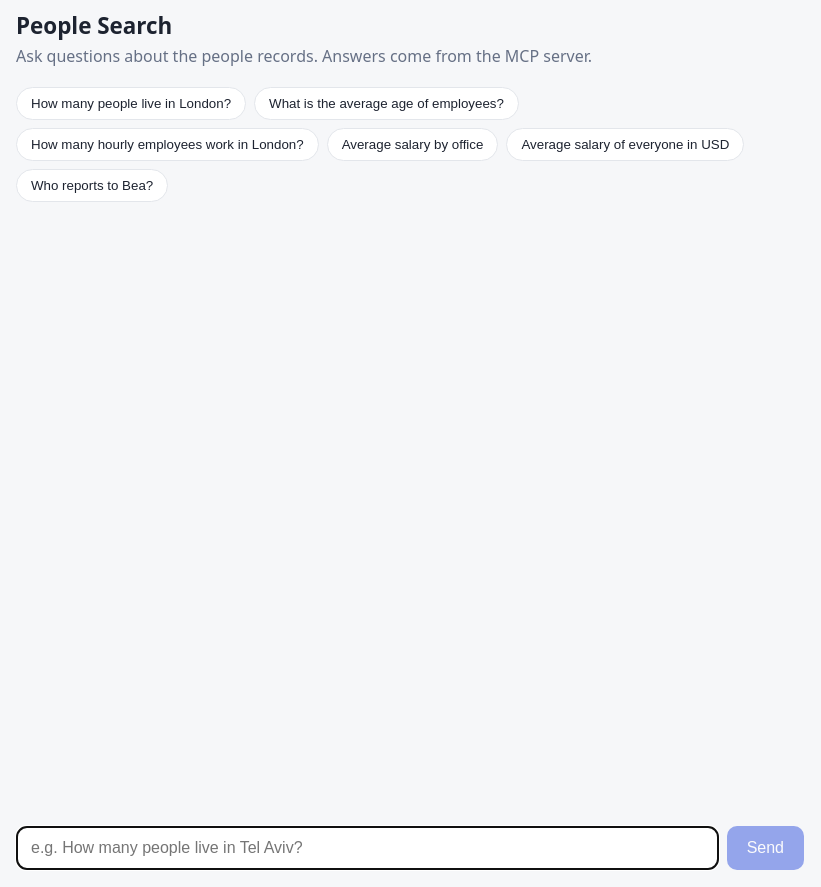
Test case: People Search chat › treats a stream that stops without "done" as interrupted, not as a finished answer
Type "London?" into the field at (367, 848), box [16,826,719,870]
Then press Enter
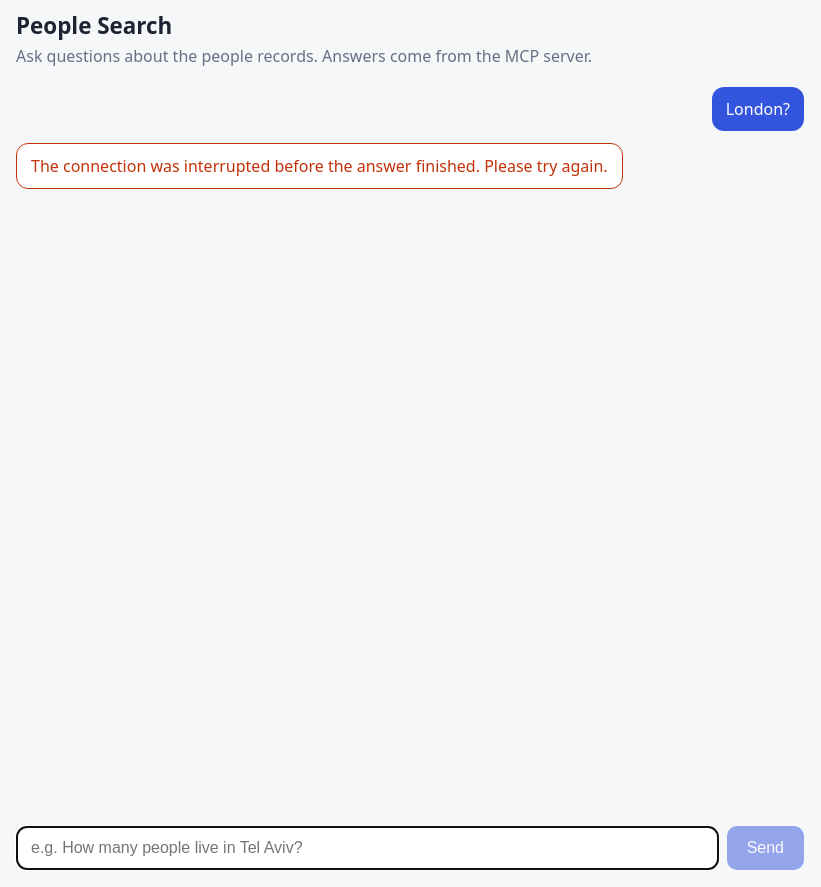
Expected: the text "connection was interrupted" is shown, [31,155,608,177]
Type "Tel Aviv?" into the field at (367, 848), box [16,826,719,870]
Then press Enter
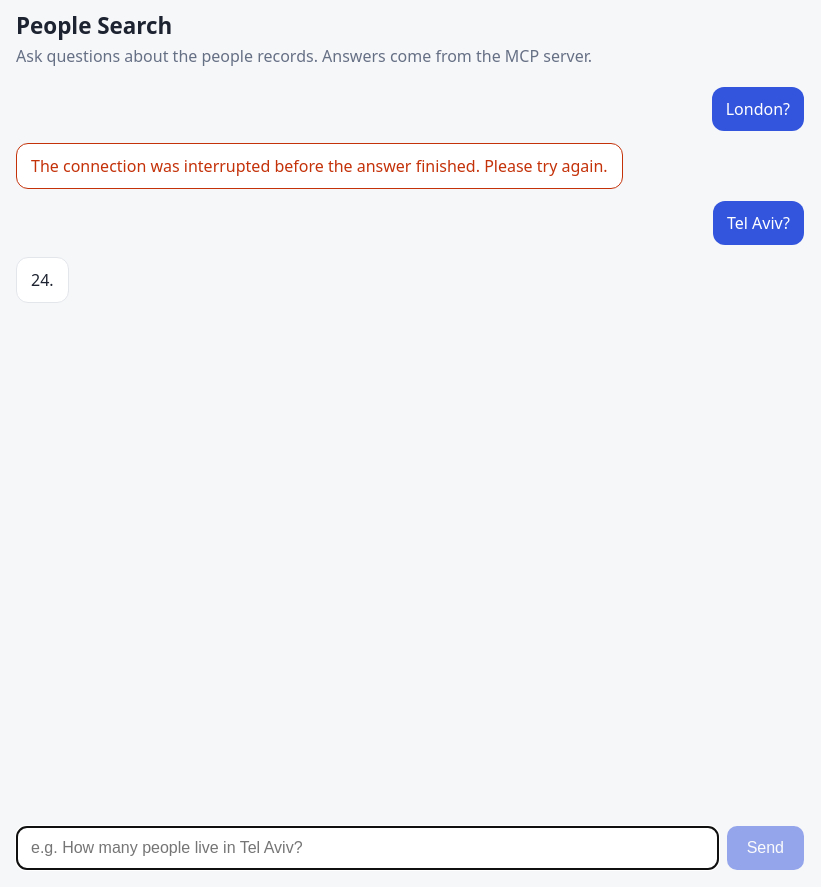
Expected: the text "24." is shown, [31,268,54,292]
